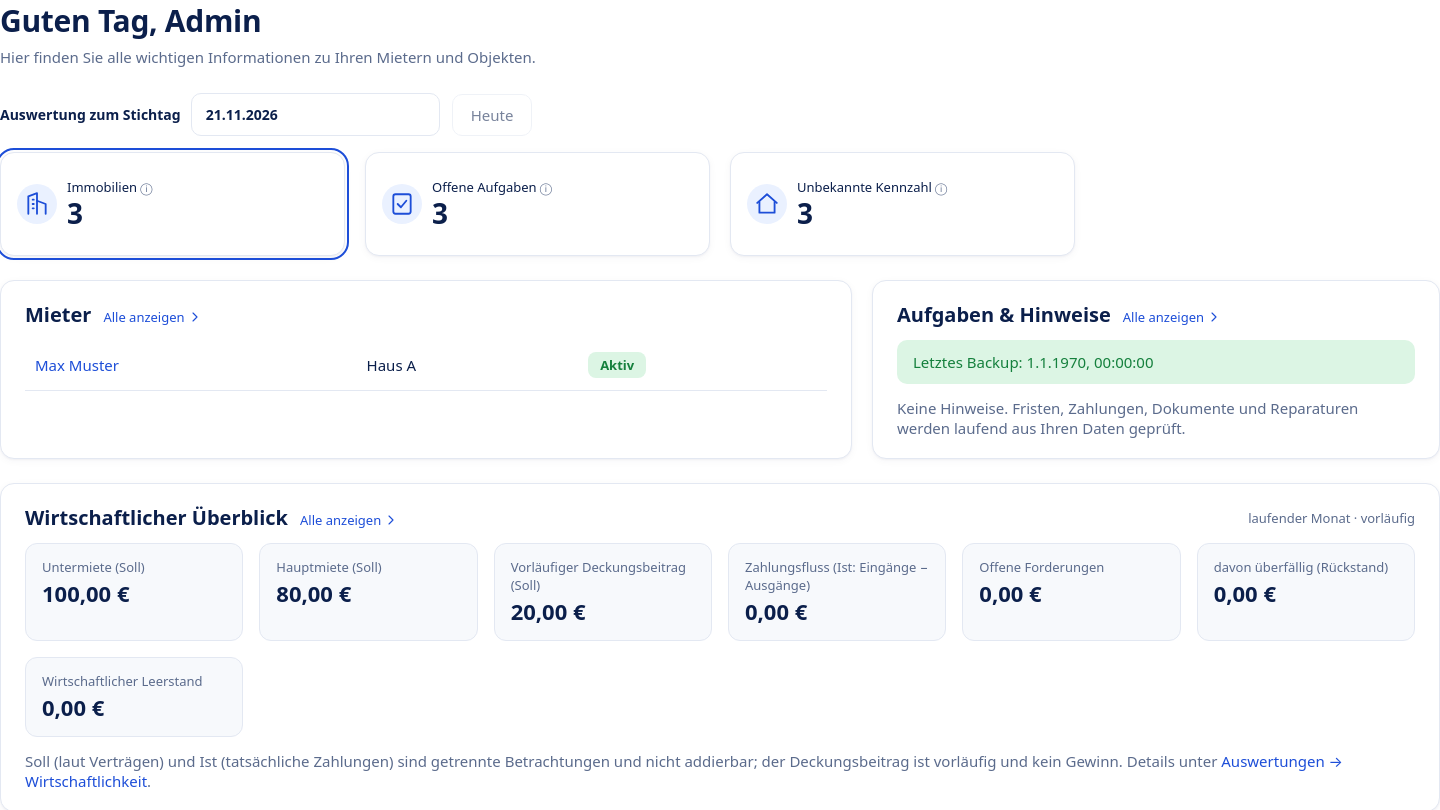
Scenario: Dashboard: Popups und keine Demo-Leiste › Klick auf Kennzahlenkarte öffnet die passende Detailansicht, Escape schließt, Fokus zurück auf die Karte
Click the button with test id "kpi-Immobilien".
click(37, 204)  # box [0,152,345,256]
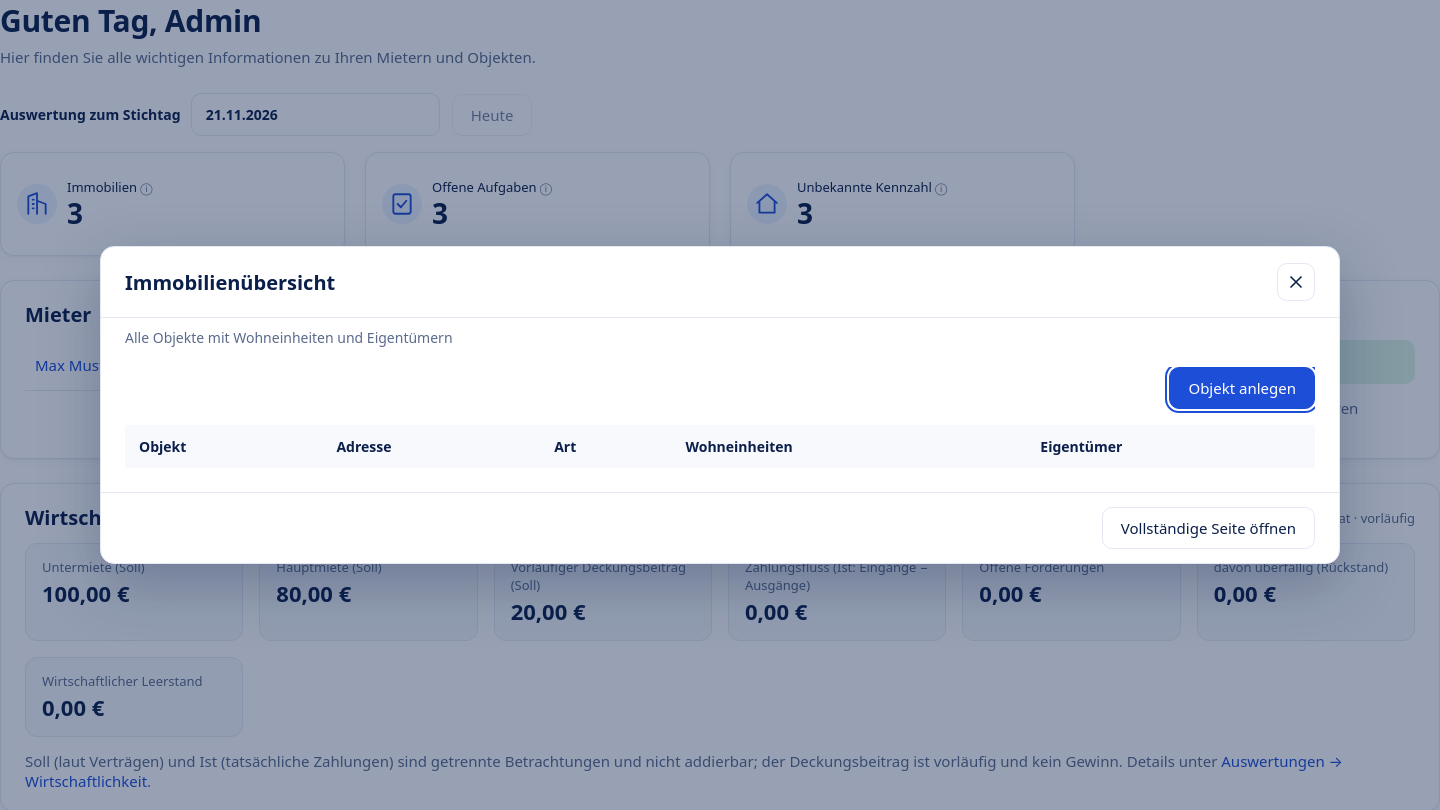
Expected: the dialog "Immobilienübersicht" is shown, [100,246,1340,564]
Press Escape
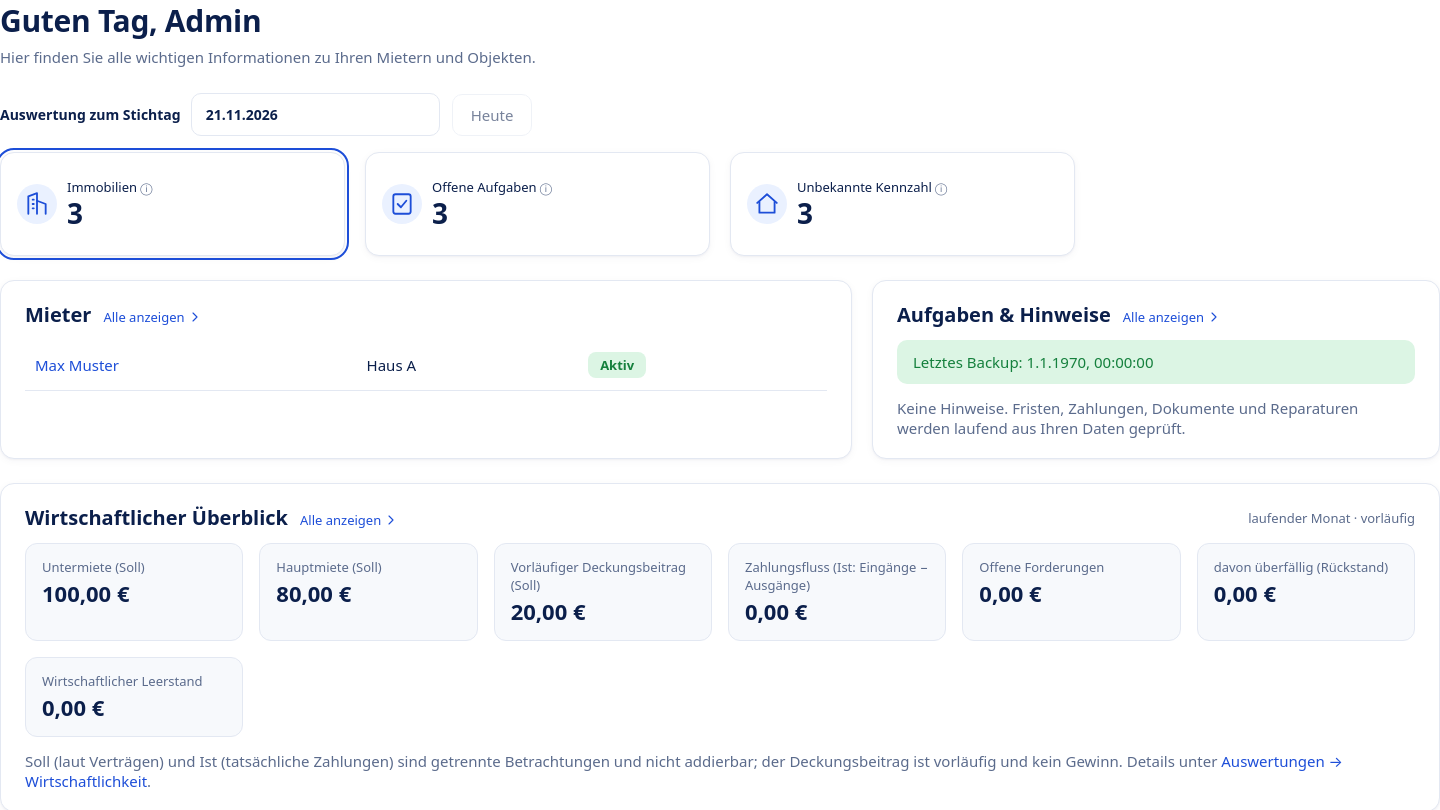
Expected: the dialog is gone
Click the button with test id "kpi-Offene Aufgaben".
click(402, 204)  # box [365,152,710,256]
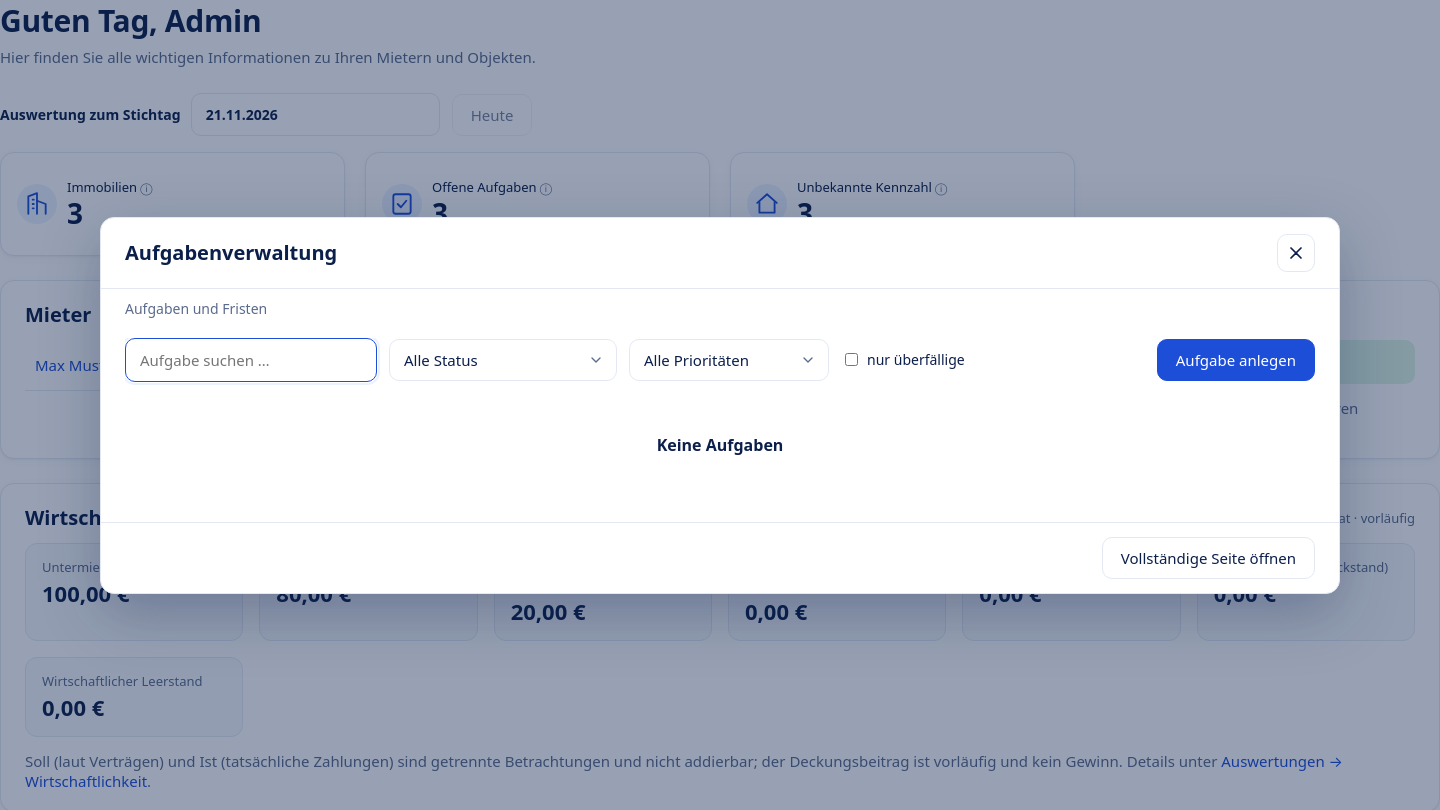
Expected: the dialog "Aufgabenverwaltung" is shown, [100,216,1340,594]
